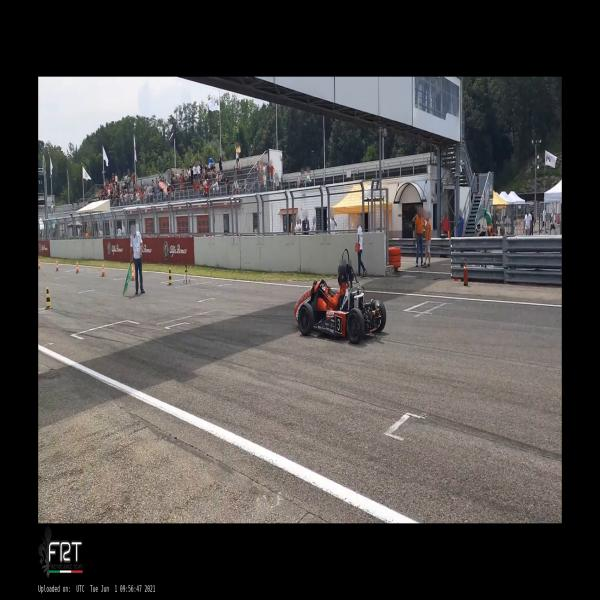large_orange_cone: (101, 262, 106, 276), (132, 264, 136, 280), (76, 261, 81, 273)
unknown_cone: (45, 286, 53, 310), (167, 267, 174, 285)
